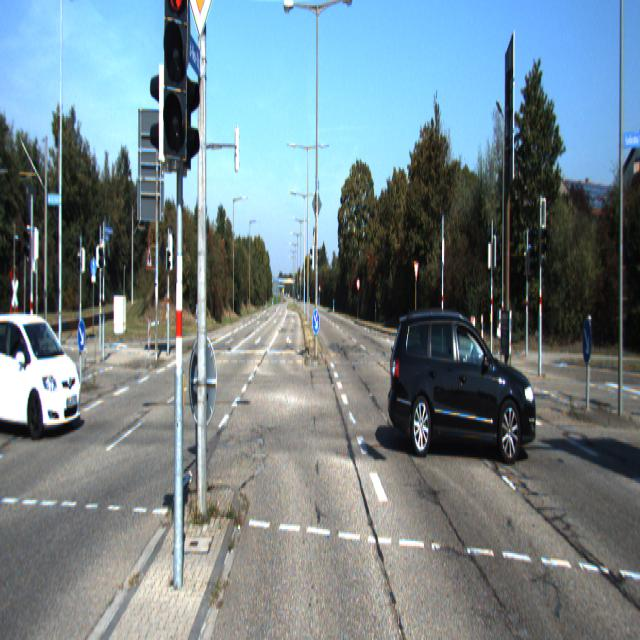Car: (388, 304, 539, 464), (0, 304, 87, 433)
